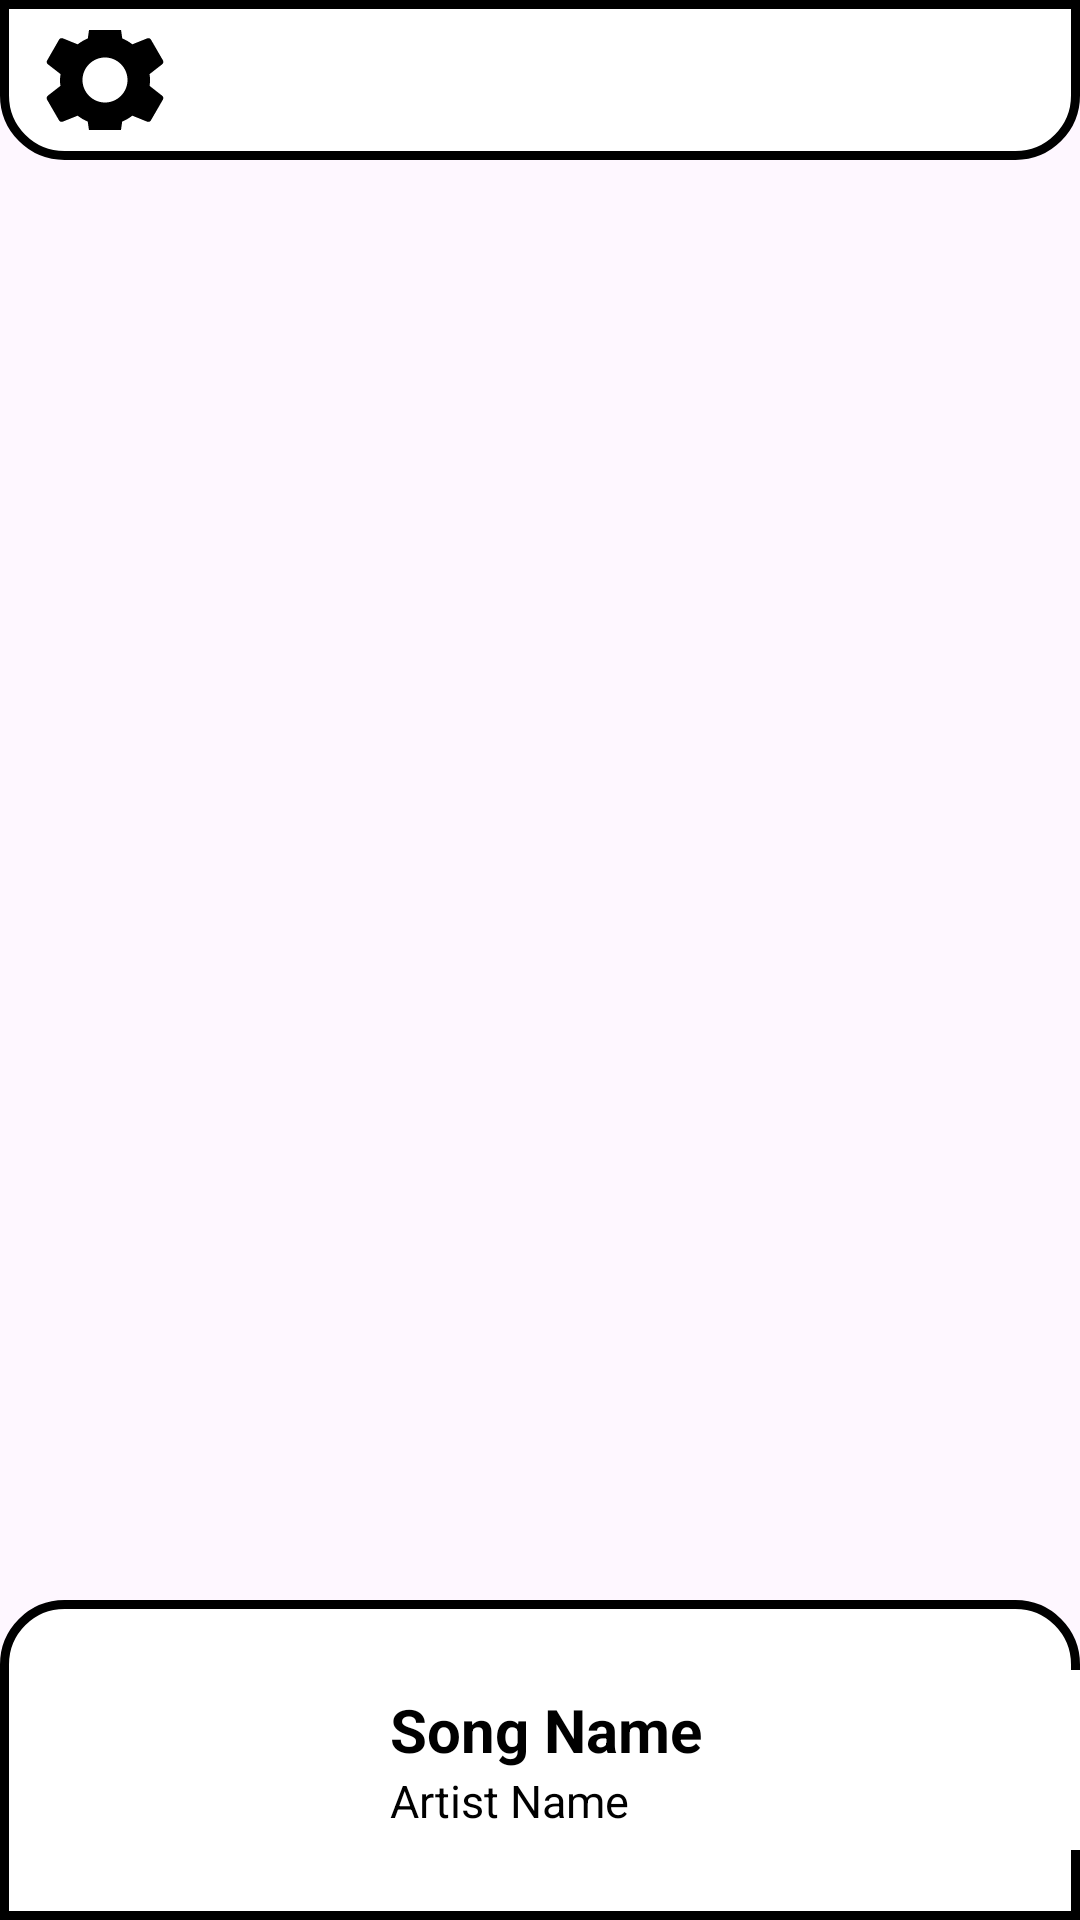

Where to tap for icons on this 1080px×1920px app screen, as (x=x, y=y):
Settings: (x=105, y=80)
